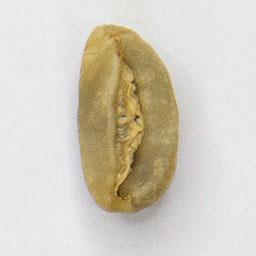longberry: (72, 21, 183, 215)
